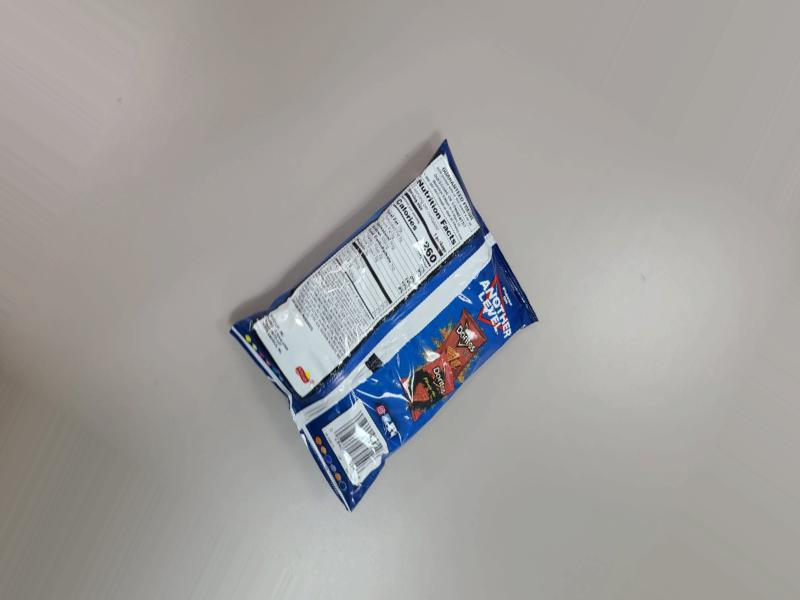doritos: (240, 113, 559, 535)
